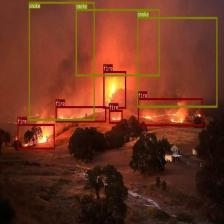fire: (138, 98, 202, 126), (18, 124, 55, 149), (103, 71, 126, 108), (55, 106, 106, 122), (109, 110, 122, 123)
smoke: (29, 1, 94, 120), (137, 17, 217, 107), (76, 9, 160, 76)
